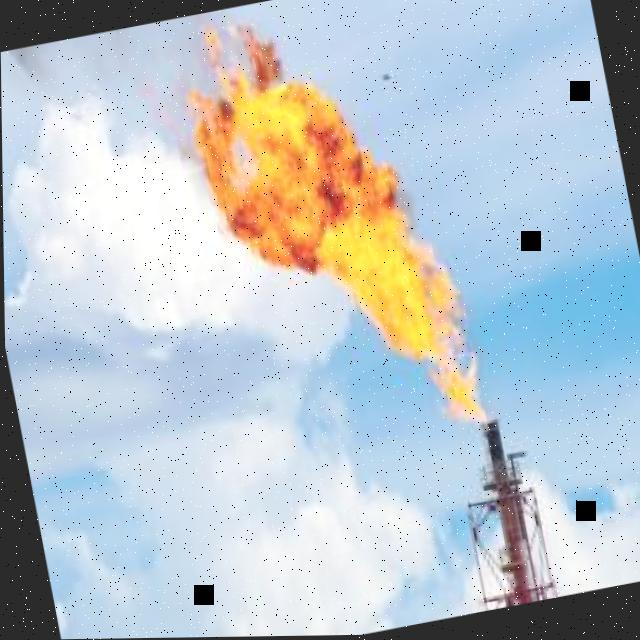fire: (189, 28, 494, 436)
smoke: (6, 13, 223, 233)
